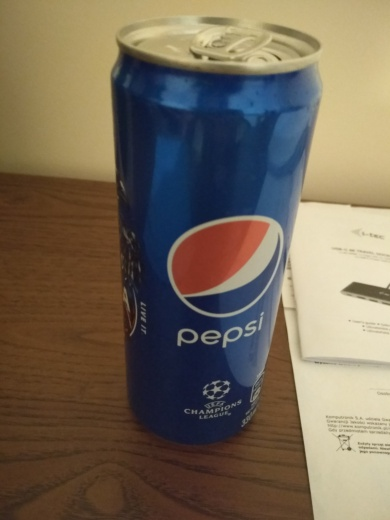pepsi: (100, 10, 330, 451)
